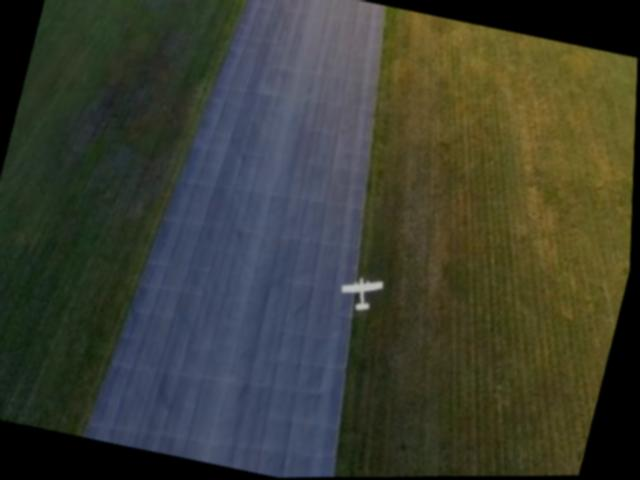uav: (338, 273, 386, 317)
